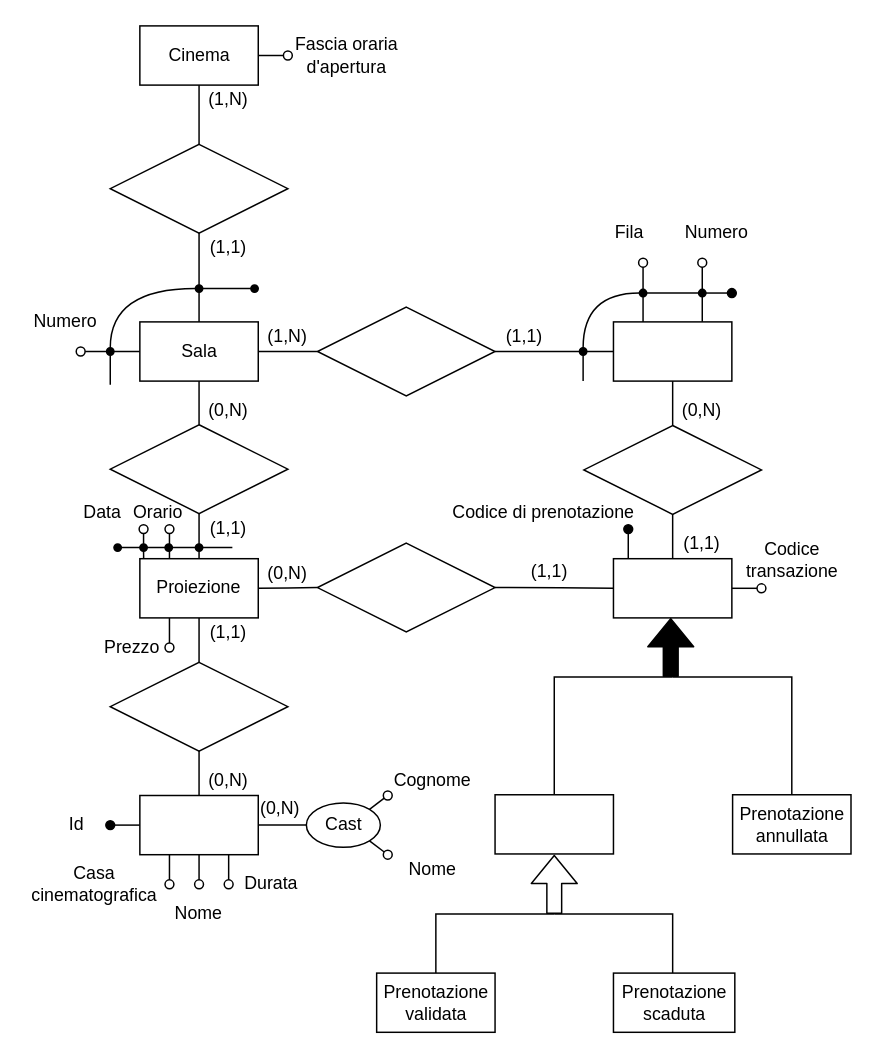
Image size: 878x1058. Some labels were removed from this diagram. The shapes that lost their labels are listed below. From the top down, each one's box as (x1, y1, x2, y2) in pixels, then its label:
(612, 320, 732, 381): Posto
(612, 557, 732, 618): Prenotazione
(138, 794, 258, 855): Film
(494, 793, 613, 854): Prenotazione confermata
